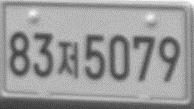0: (109, 34, 131, 82)
3: (33, 33, 54, 78)
5: (83, 33, 106, 80)
7: (132, 35, 156, 82)
8: (8, 30, 31, 77)
9: (157, 35, 182, 82)
저: (56, 40, 80, 79)
